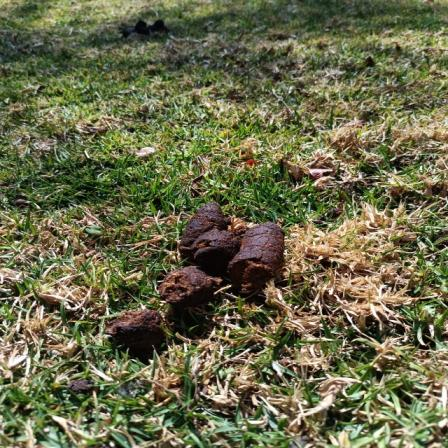dog-poop: (109, 200, 291, 350)
